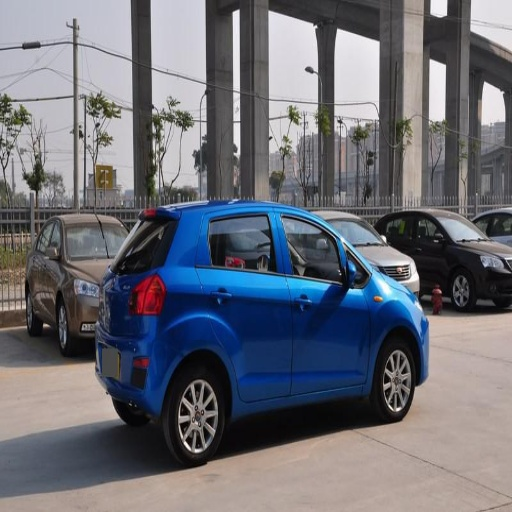back_bumper: (89, 323, 156, 387)
back_right_door: (200, 209, 292, 401)
